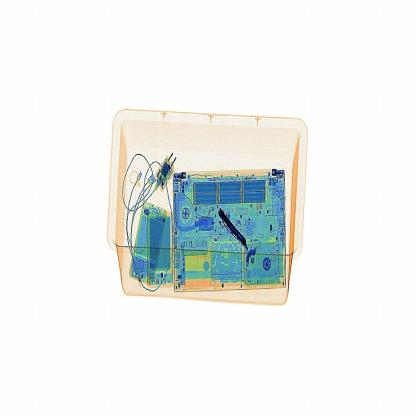knife: (218, 200, 262, 258)
